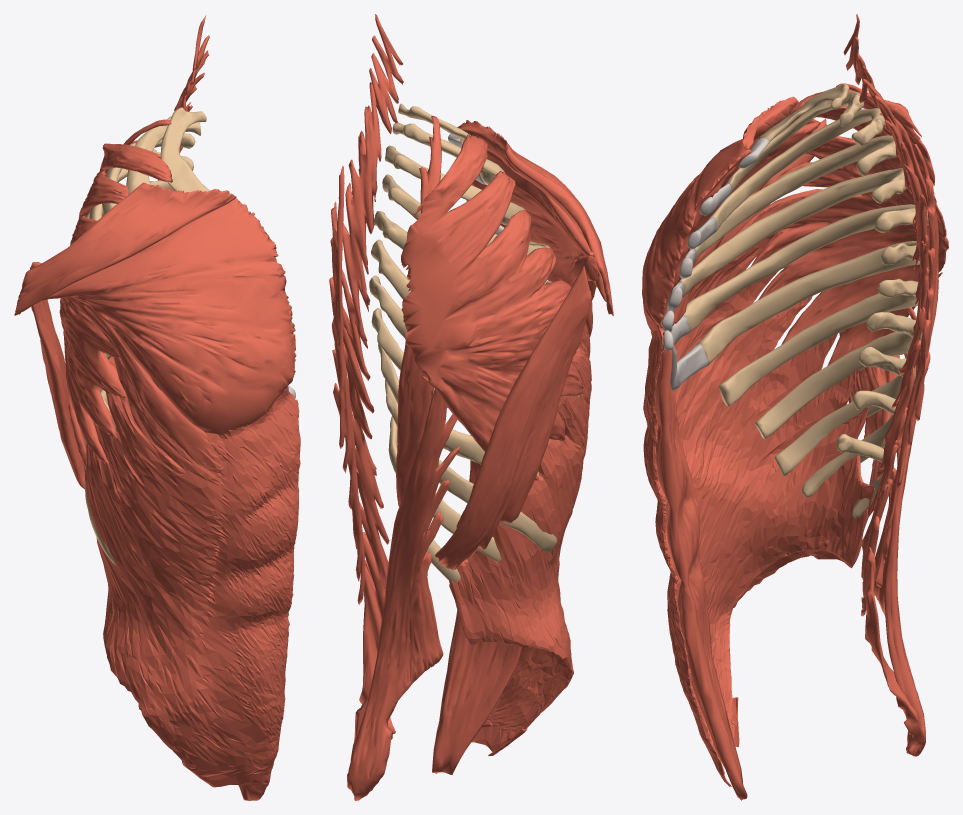
The model's file is torso.glb.
The picture shows the model from 3 angles, left to right: view 1: azimuth 30°, elevation 25°; view 2: azimuth 150°, elevation 25°; view 3: azimuth 270°, elevation 25°; orthographic projection. The views are drawn at different scales.
Visible parts, largest first — view 1: muscle_external_oblique, muscle_pectoralis_major, muscle_serratus_anterior, bone_ribcage, muscle_latissimus_dorsi, muscle_erector_spinae; view 2: muscle_erector_spinae, muscle_serratus_anterior, muscle_external_oblique, muscle_latissimus_dorsi, bone_ribcage, muscle_pectoralis_major, muscle_rectus_abdominis; view 3: muscle_external_oblique, bone_ribcage, muscle_erector_spinae, muscle_serratus_anterior, muscle_rectus_abdominis, muscle_pectoralis_major, muscle_latissimus_dorsi.
Boxes of the visible parts, x1,y1,x2,y2 form: muscle_external_oblique: [84, 357, 300, 791]; muscle_pectoralis_major: [14, 182, 296, 468]; muscle_serratus_anterior: [59, 143, 172, 469]; bone_ribcage: [84, 107, 295, 565]; muscle_latissimus_dorsi: [31, 299, 84, 489]; muscle_erector_spinae: [89, 15, 209, 391]; muscle_erector_spinae: [329, 14, 459, 800]; muscle_serratus_anterior: [401, 134, 583, 480]; muscle_external_oblique: [449, 325, 591, 755]; muscle_latissimus_dorsi: [435, 266, 591, 570]; bone_ribcage: [369, 103, 582, 583]; muscle_pectoralis_major: [457, 120, 613, 337]; muscle_rectus_abdominis: [432, 435, 521, 774]; muscle_external_oblique: [643, 231, 874, 786]; bone_ribcage: [662, 83, 929, 517]; muscle_erector_spinae: [836, 14, 938, 756]; muscle_serratus_anterior: [732, 89, 948, 365]; muscle_rectus_abdominis: [655, 327, 747, 800]; muscle_pectoralis_major: [642, 96, 826, 346]; muscle_latissimus_dorsi: [839, 331, 899, 485].
Size of the model in its own units: 0.201 by 0.6706 by 0.2368.
